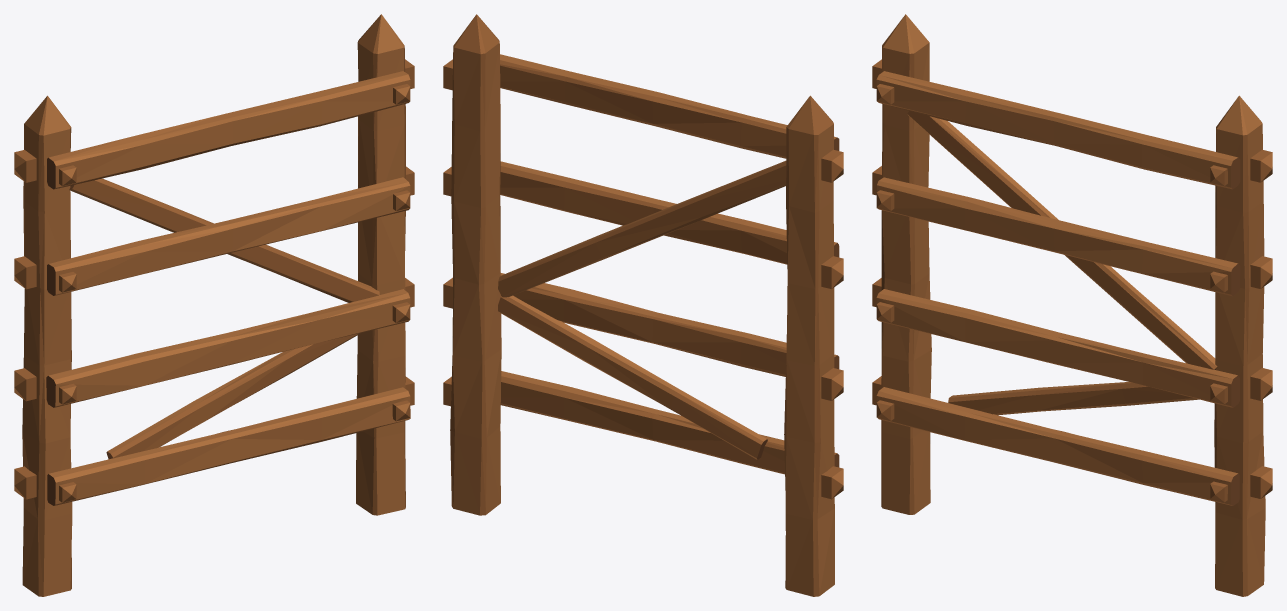
The model's file is FMS_Bed_Trellis.fbx.
3 views of the same model, side by side, from view 1: azimuth 30°, elevation 25°; view 2: azimuth 150°, elevation 25°; view 3: azimuth 330°, elevation 25° (orthographic).
Visible parts, largest first — view 1: FMS_Bed_Trellis; view 2: FMS_Bed_Trellis; view 3: FMS_Bed_Trellis.
Boxes of the visible parts, bbox=[...] form: FMS_Bed_Trellis: bbox=[14, 14, 414, 596]; FMS_Bed_Trellis: bbox=[443, 14, 843, 596]; FMS_Bed_Trellis: bbox=[872, 14, 1272, 596].
Size of the model in its own units: 1.53 by 1.8 by 0.2295.
